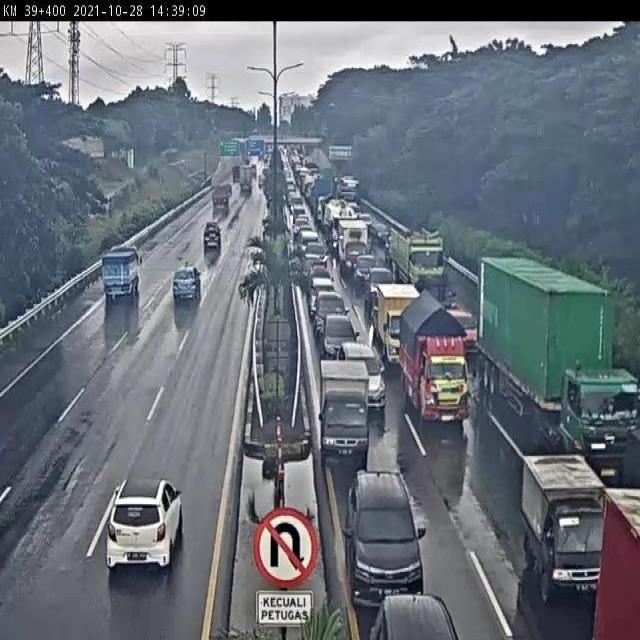car: (93, 467, 196, 583), (348, 453, 420, 595), (321, 371, 379, 463), (439, 291, 482, 375), (321, 308, 359, 371), (163, 264, 202, 316), (313, 291, 354, 335), (192, 223, 225, 269), (366, 265, 391, 300), (311, 275, 339, 300)
truck: (519, 283, 640, 472), (505, 437, 604, 584), (408, 307, 478, 436), (319, 360, 372, 463), (366, 280, 428, 364), (401, 233, 449, 291), (92, 242, 132, 310)
